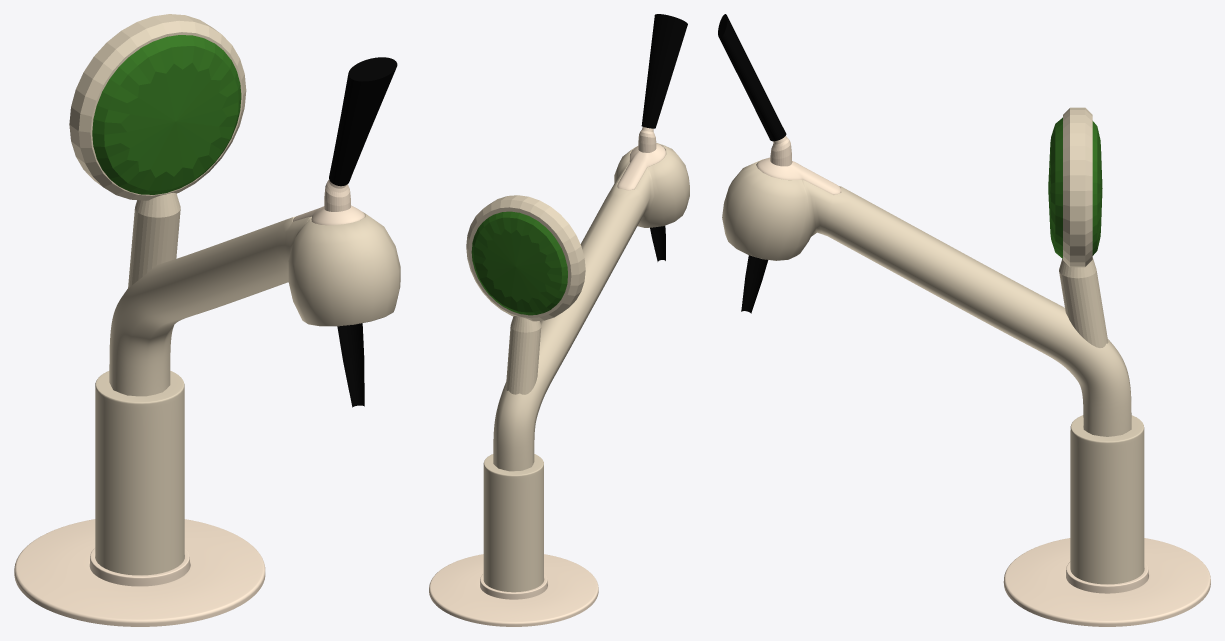
File: beer_tap.fbx
The picture shows the model from 3 angles, left to right: view 1: azimuth 30°, elevation 25°; view 2: azimuth 150°, elevation 25°; view 3: azimuth 270°, elevation 25°; orthographic projection. The views are drawn at different scales.
Visible parts, largest first — view 1: Cylinder.002, Circle.001, Cylinder, Cylinder.003, Cylinder.001, Circle, Sphere.002, Cylinder.005; view 2: Cylinder.002, Circle.001, Cylinder, Cylinder.003, Cylinder.001, Sphere.002, Cylinder.005, Circle; view 3: Cylinder.002, Cylinder, Cylinder.003, Circle.001, Cylinder.001, Sphere.002, Cylinder.005, Circle.
Boxes of the visible parts, x1,y1,x2,y2 form: Cylinder.002: (69, 14, 400, 396); Circle.001: (92, 35, 241, 194); Cylinder: (95, 371, 184, 575); Cylinder.003: (14, 519, 265, 626); Cylinder.001: (329, 57, 397, 186); Circle: (337, 323, 364, 407); Sphere.002: (293, 180, 365, 225); Cylinder.005: (90, 548, 189, 586); Cylinder.002: (466, 143, 689, 471); Circle.001: (471, 211, 567, 315); Cylinder: (483, 454, 543, 592); Cylinder.003: (429, 554, 598, 626); Cylinder.001: (641, 14, 687, 128); Sphere.002: (617, 127, 665, 190); Cylinder.005: (480, 573, 547, 599); Circle: (650, 226, 665, 261); Cylinder.002: (722, 107, 1131, 436); Cylinder: (1070, 415, 1144, 584); Cylinder.003: (1003, 538, 1210, 626); Circle.001: (1048, 117, 1102, 258); Cylinder.001: (718, 14, 786, 141); Sphere.002: (756, 136, 840, 194); Cylinder.005: (1066, 562, 1148, 593); Circle: (741, 255, 768, 313).
Bounding box in the file's own units: 9.84 × 29.56 × 23.41.
